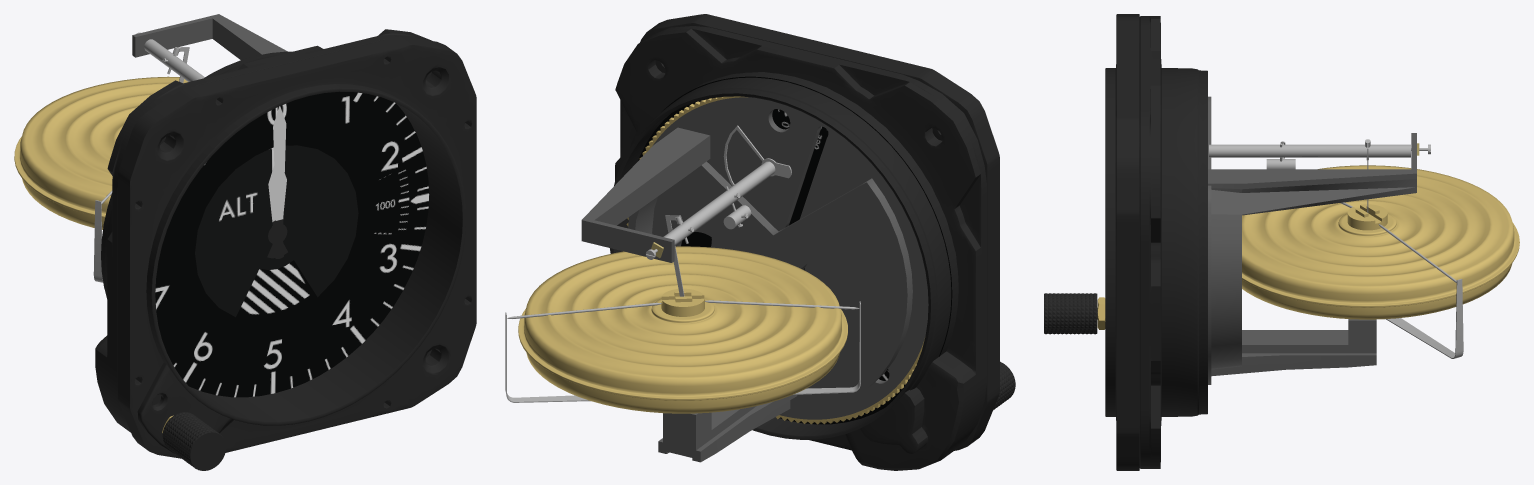
File: collada_altimeter.dae
The picture shows the model from 3 angles, left to right: view 1: azimuth 30°, elevation 25°; view 2: azimuth 150°, elevation 25°; view 3: azimuth 270°, elevation 25°; orthographic projection. The views are drawn at different scales.
Parts seen in each view (by area): view 1: altimeter, face, needle_10000, capsule, rear_frame, setting_knob_base, subscale, subscale_knob, needle_100, x_rod, needle_1000, frame; view 2: altimeter, capsule, cage, BezierCircle, rear_frame, x_rod, subscale, big_gear, frame, spindle, subscale_knob; view 3: altimeter, capsule, rear_frame, x_rod, subscale_knob, frame, cage, spindle.
Part boxes in pixels (left/top/right/bottom): altimeter: left=95, top=29, right=476, bottom=458; face: left=155, top=91, right=429, bottom=397; needle_10000: left=195, top=107, right=358, bottom=317; capsule: left=14, top=76, right=187, bottom=229; rear_frame: left=132, top=14, right=287, bottom=59; setting_knob_base: left=137, top=362, right=233, bottom=453; subscale: left=362, top=167, right=409, bottom=234; subscale_knob: left=162, top=412, right=226, bottom=470; needle_100: left=273, top=106, right=286, bottom=258; x_rod: left=144, top=39, right=204, bottom=81; needle_1000: left=267, top=166, right=287, bottom=258; frame: left=93, top=200, right=103, bottom=282; altimeter: left=610, top=14, right=999, bottom=470; capsule: left=518, top=246, right=847, bottom=413; cage: left=628, top=161, right=912, bottom=411; BezierCircle: left=653, top=97, right=928, bottom=419; rear_frame: left=581, top=127, right=797, bottom=462; x_rod: left=663, top=125, right=791, bottom=245; subscale: left=628, top=76, right=952, bottom=424; big_gear: left=626, top=96, right=925, bottom=424; frame: left=505, top=301, right=860, bottom=402; spindle: left=661, top=288, right=704, bottom=316; subscale_knob: left=993, top=361, right=1015, bottom=409; altimeter: left=1105, top=14, right=1207, bottom=470; capsule: left=1242, top=165, right=1519, bottom=319; rear_frame: left=1208, top=133, right=1416, bottom=376; x_rod: left=1209, top=139, right=1410, bottom=169; subscale_knob: left=1044, top=293, right=1105, bottom=334; frame: left=1386, top=279, right=1463, bottom=358; cage: left=1208, top=96, right=1211, bottom=384; spindle: left=1347, top=204, right=1387, bottom=230.
Size of the model in its own units: 2.19 by 2.71 by 2.19.
Materials: 9 (3 with a texture image).
